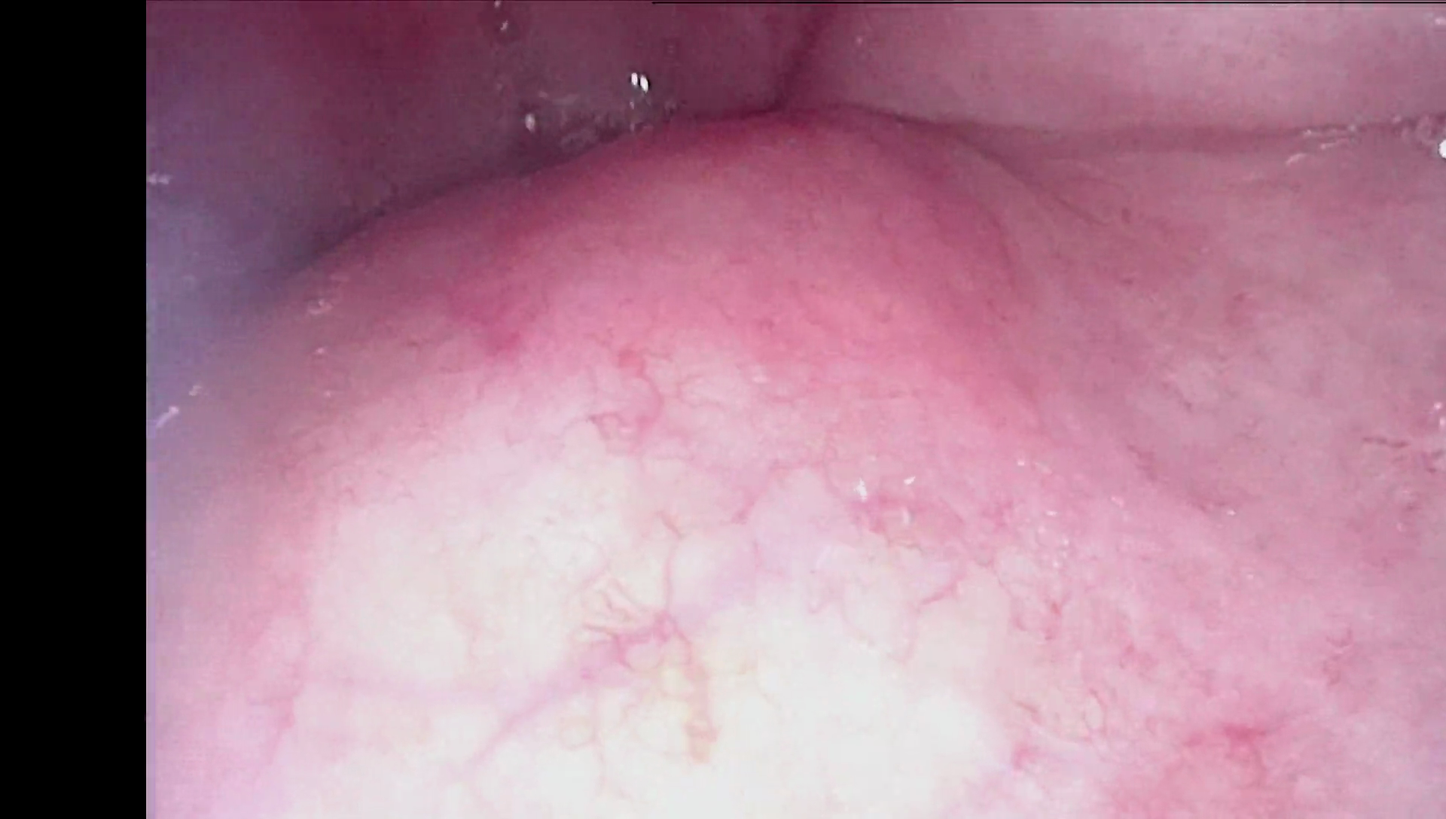close_wall: (249, 278, 1197, 819)
